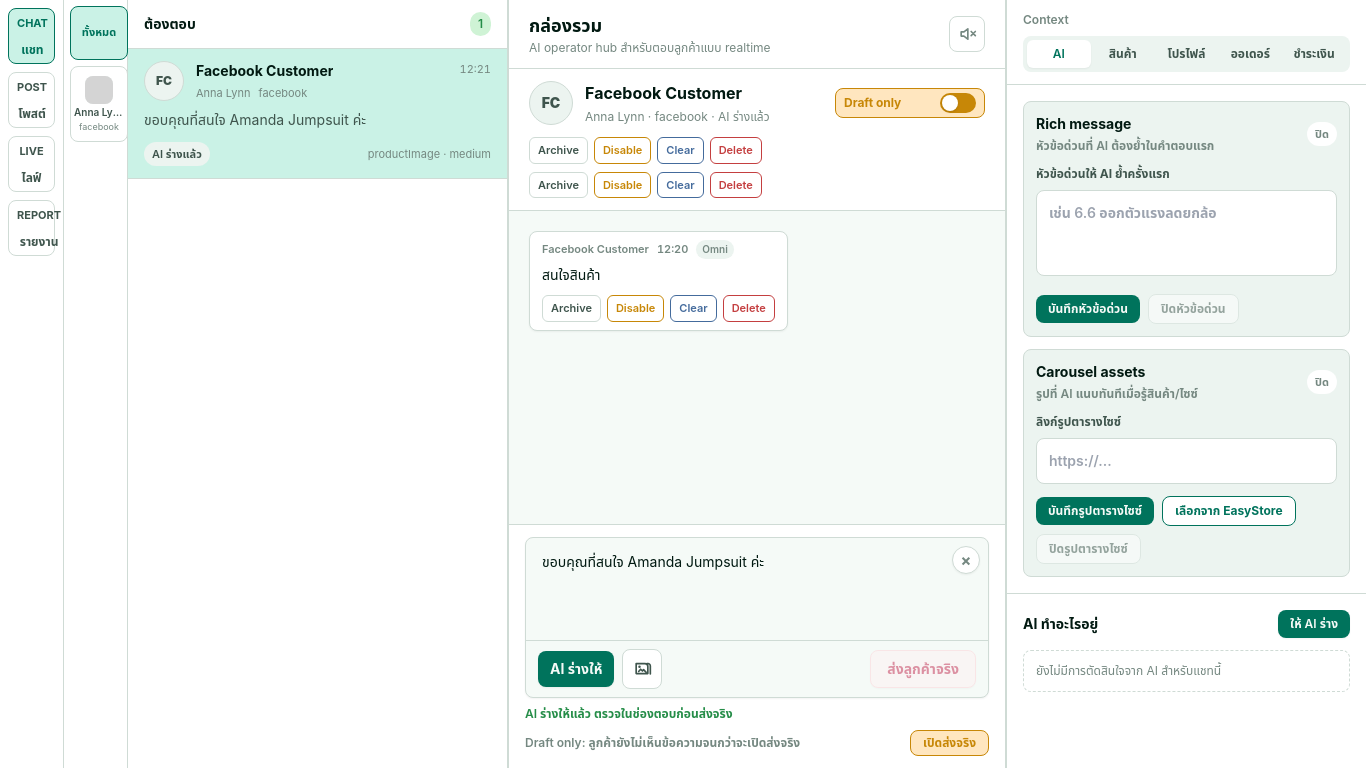
it: OmniWorkbench › places an AI draft-only message into the composer instead of showing a draft bubble
Expected: the text box with placeholder "พิมพ์ข้อความตอบลูกค้า หรือกด AI ร่างให้" holds "ขอบคุณที่สนใจ Amanda Jumpsuit ค่ะ", [526,538,988,634]
Step 1. Click the button "เปิดส่งจริง" → point(949, 743), box [910,730,989,756]
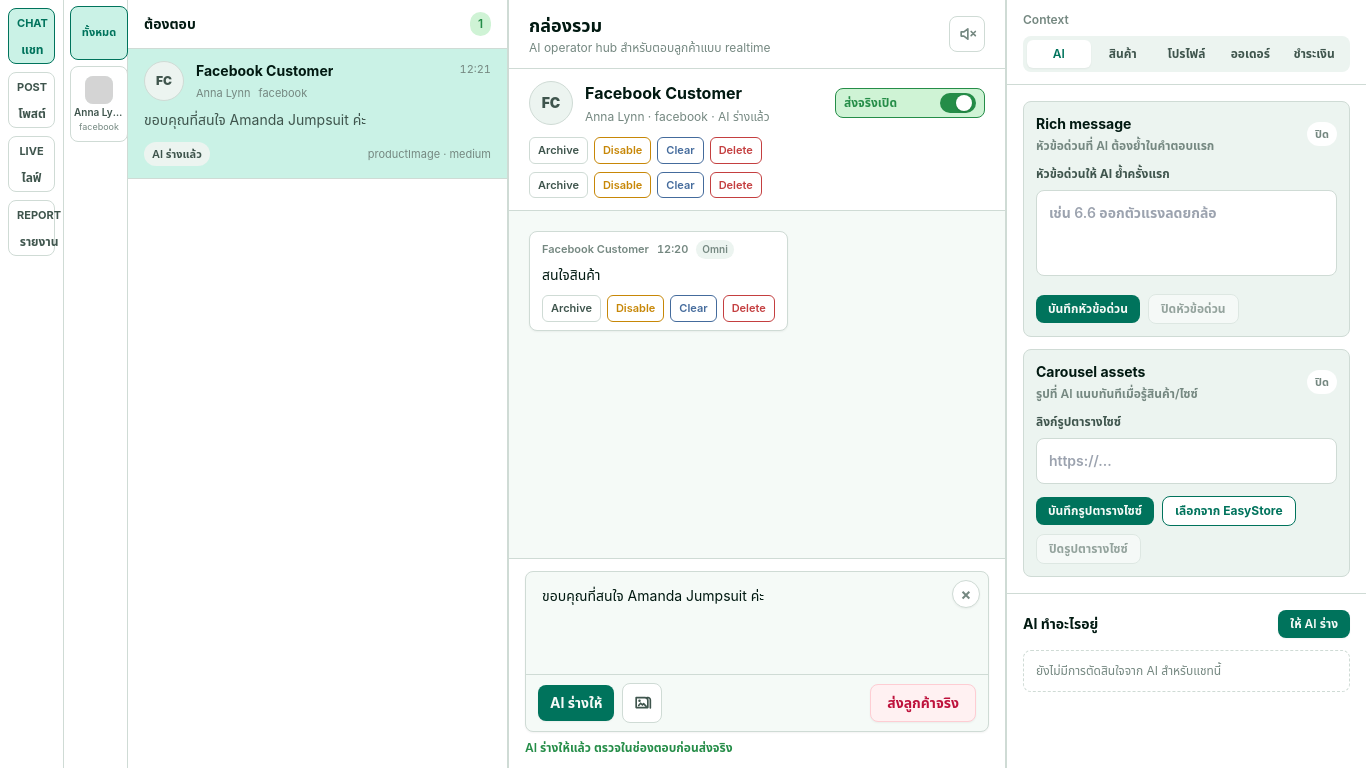
Result: the switch labelled "ส่งจริงเปิด" is shown at [835,88,985,118]
